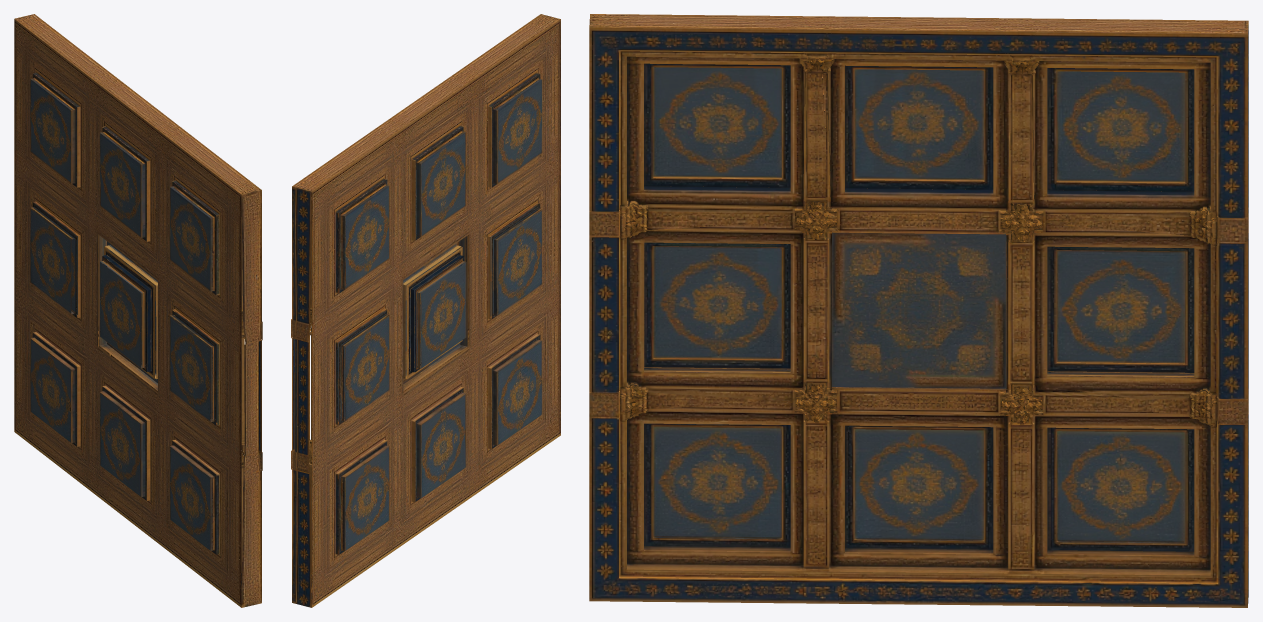
File: سقف-المجلس.glb
3 renders of one model, left to right at view 1: azimuth 30°, elevation 25°; view 2: azimuth 150°, elevation 25°; view 3: azimuth 270°, elevation 25°, orthographic. The views are drawn at different scales.
Visible parts, largest first — view 1: tripo_node_dbe5ace6-9b09-4bdc-977a-6bf0268faf9d; view 2: tripo_node_dbe5ace6-9b09-4bdc-977a-6bf0268faf9d; view 3: tripo_node_dbe5ace6-9b09-4bdc-977a-6bf0268faf9d.
Boxes of the visible parts, box(x1,y1,x2,y2) form: tripo_node_dbe5ace6-9b09-4bdc-977a-6bf0268faf9d: box(14, 14, 262, 607); tripo_node_dbe5ace6-9b09-4bdc-977a-6bf0268faf9d: box(291, 14, 560, 607); tripo_node_dbe5ace6-9b09-4bdc-977a-6bf0268faf9d: box(589, 14, 1248, 607).
Bounding box in the file's own units: 0.0937 × 1 × 1.04.
1 material, 1 textured.
